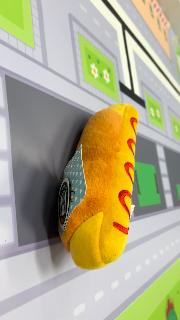hotdog: (56, 103, 139, 271)
